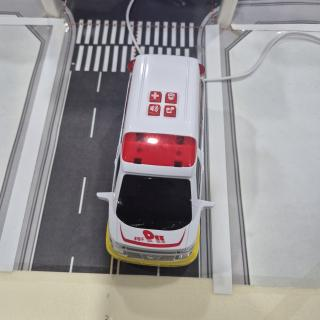Ambulance: (96, 55, 214, 267)
